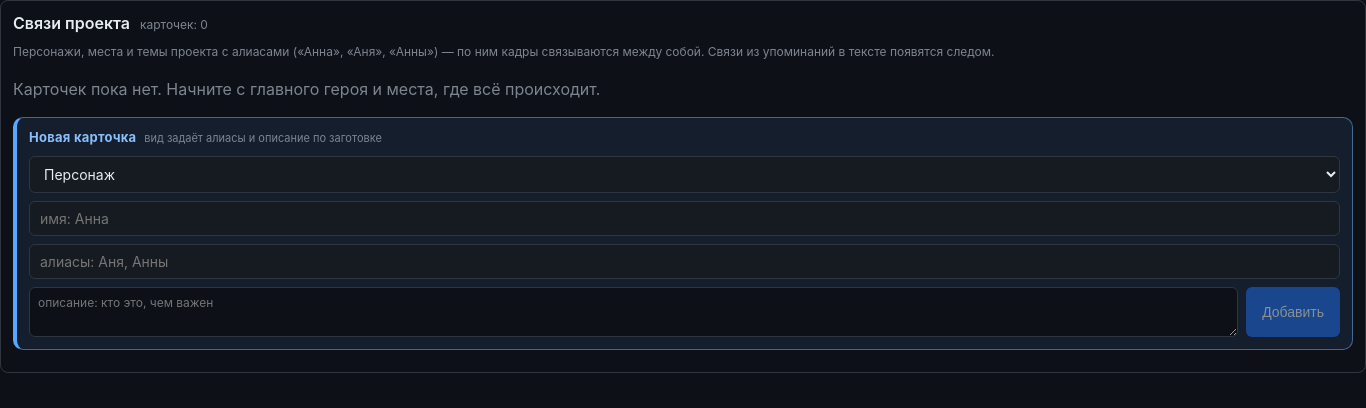
EntitiesPanel › занятое имя объясняется словами сервера, а не кодом 409
Expected: the text "Карточек пока нет" is shown, [13,79,600,99]
Type "Анна" into the field named "Имя карточки" at x=684, y=218, box [29,200,1340,236]
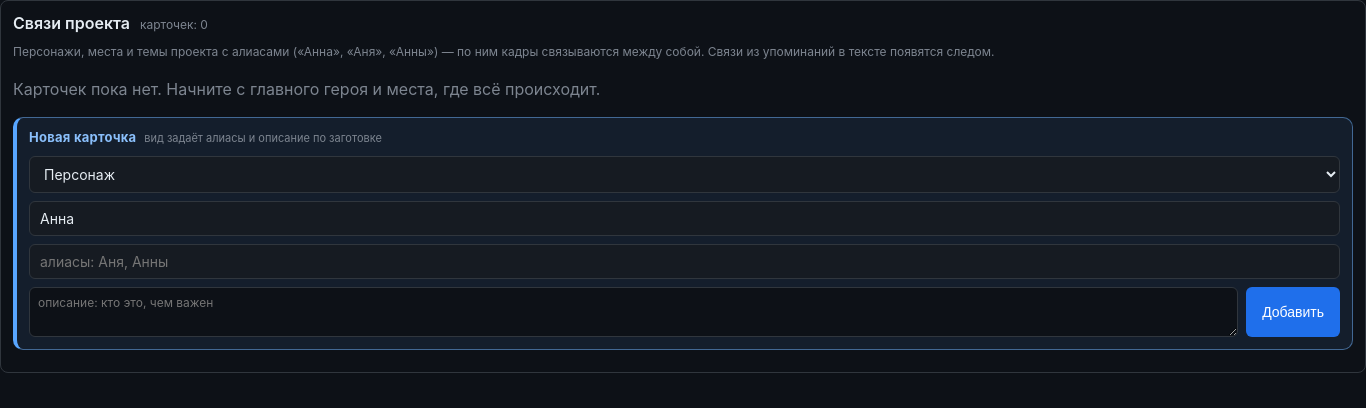
Click the button "Добавить" at x=1293, y=312, box [1246,286,1340,336]
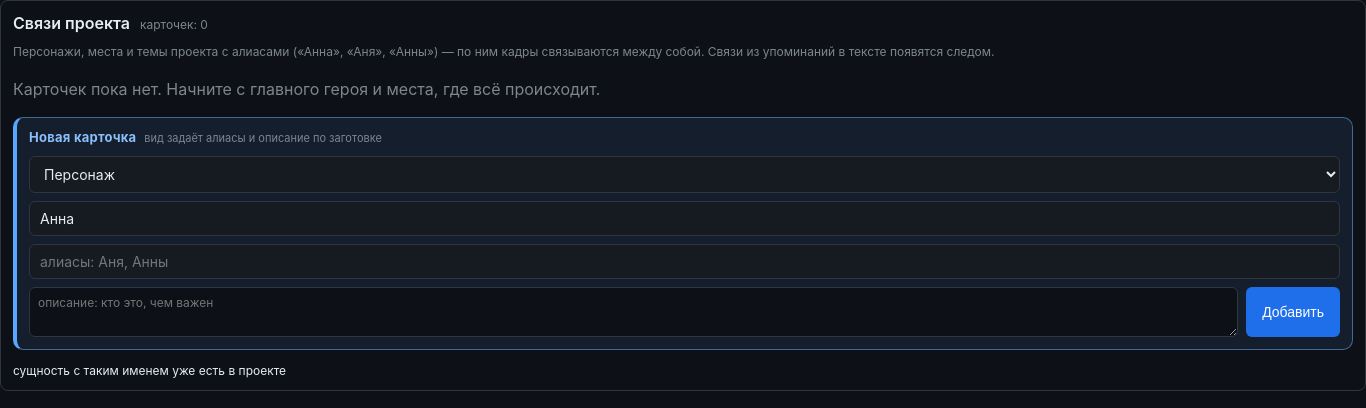
Result: the text "сущность с таким именем уже есть в проекте" is shown at [13,362,286,378]
